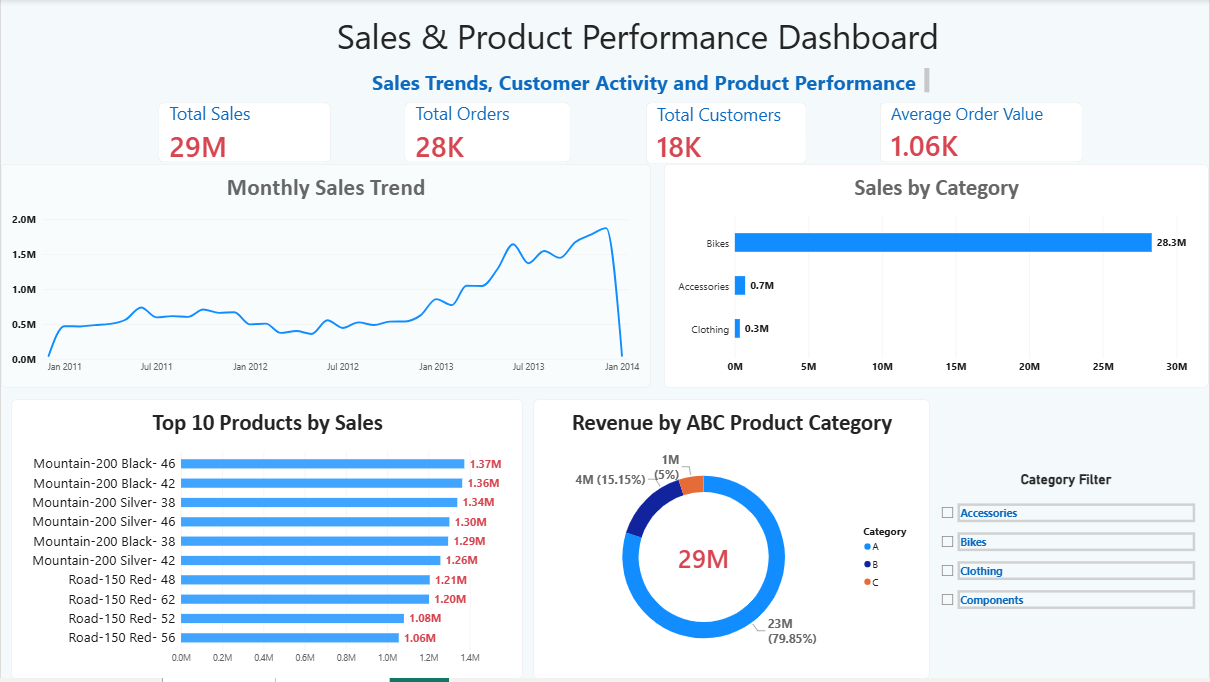

The dashboard page shown, as its layout file describes it:
{"tool":"powerbi","page":{"name":"Page 1","canvas":[1920,1080],"ordinal":0},"visuals":[{"type":"cardVisual","fields":{"Data":["gold dim_customers.Total Sales"]},"box":[250.5,164.6,274.4,95.4],"z":0},{"type":"cardVisual","fields":{"Data":["gold dim_customers.Total Orders"]},"box":[642.6,164.6,264.8,95.4],"z":1000},{"type":"cardVisual","fields":{"Data":["gold dim_customers.Total Customers"]},"box":[1025.1,164.6,255.3,97.8],"z":2000},{"type":"cardVisual","fields":{"Data":["gold dim_customers.Average Order Value"]},"box":[1398.1,164.6,322.1,95.4],"z":3000},{"type":"lineChart","title":"Monthly Sales Trend","fields":{"Category":["gold fact_sales.order_date.Variation.Date Hierarchy.Year","gold fact_sales.order_date.Variation.Date Hierarchy.Month"],"Y":["gold dim_customers.Total Sales"]},"box":[0,262.5,1033.1,355.5],"z":4000},{"type":"clusteredBarChart","title":"Sales by Category","fields":{"Category":["gold dim_products.category"],"Y":["gold dim_customers.Total Sales"]},"box":[1054.6,262.5,866.1,355.5],"z":5000},{"type":"clusteredBarChart","title":"Top 10 Products by Sales","fields":{"Category":["gold dim_products.product_name"],"Y":["gold dim_customers.Total Sales"]},"box":[16.7,637,813.6,443.8],"z":6000},{"type":"donutChart","title":"Revenue by ABC Product Category","fields":{"Category":["ABC_Product_Analysis.abc_category"],"Y":["Sum(ABC_Product_Analysis.total_sales)"]},"box":[847,637,629.9,443.8],"z":7000},{"type":"slicer","title":"Category Filter","fields":{"Values":["gold dim_products.category"]},"box":[1488.8,751.6,410.4,329.3],"z":8000},{"type":"textbox","box":[1227,0,436,150],"z":9000},{"type":"textbox","box":[1673,0,247,150],"z":10000},{"type":"textbox","box":[305.4,21.5,1414.8,212.3],"z":11000},{"type":"textbox","box":[589.3,109.8,887.6,40.6],"z":12000}]}

Visuals, with their boxes in screenshot pixels (x1, y1, x2, y2), scaled from the page's 1920x1080 canvas onto the 1210x682 screenshot:
cardVisual - gold dim_customers.Total Sales: [158,104,331,164]
cardVisual - gold dim_customers.Total Orders: [405,104,572,164]
cardVisual - gold dim_customers.Total Customers: [646,104,807,166]
cardVisual - gold dim_customers.Average Order Value: [881,104,1084,164]
"Monthly Sales Trend" lineChart: [0,166,651,390]
"Sales by Category" clusteredBarChart: [665,166,1209,390]
"Top 10 Products by Sales" clusteredBarChart: [11,402,523,681]
"Revenue by ABC Product Category" donutChart: [534,402,931,681]
"Category Filter" slicer: [938,475,1197,681]
textbox: [773,0,1048,95]
textbox: [1054,0,1209,95]
textbox: [192,14,1084,148]
textbox: [371,69,931,95]
